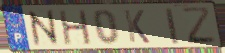0: (91, 8, 122, 47)
H: (57, 9, 94, 47)
I: (163, 7, 181, 46)
K: (122, 8, 152, 45)
N: (25, 8, 62, 49)
Z: (179, 5, 218, 45)
